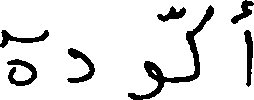أ: (243, 0, 252, 88)
ة: (0, 27, 37, 86)
د: (65, 46, 96, 84)
ك: (185, 2, 213, 82)
و: (128, 58, 164, 98)
